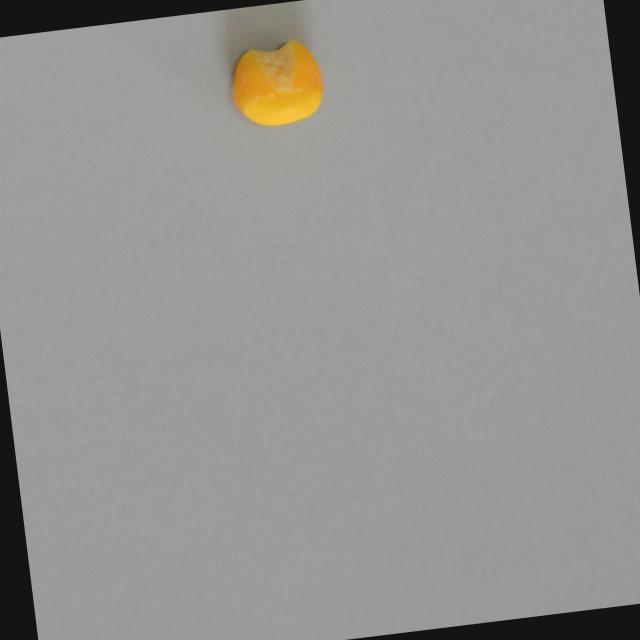no_desgerminado: (217, 29, 332, 137)
